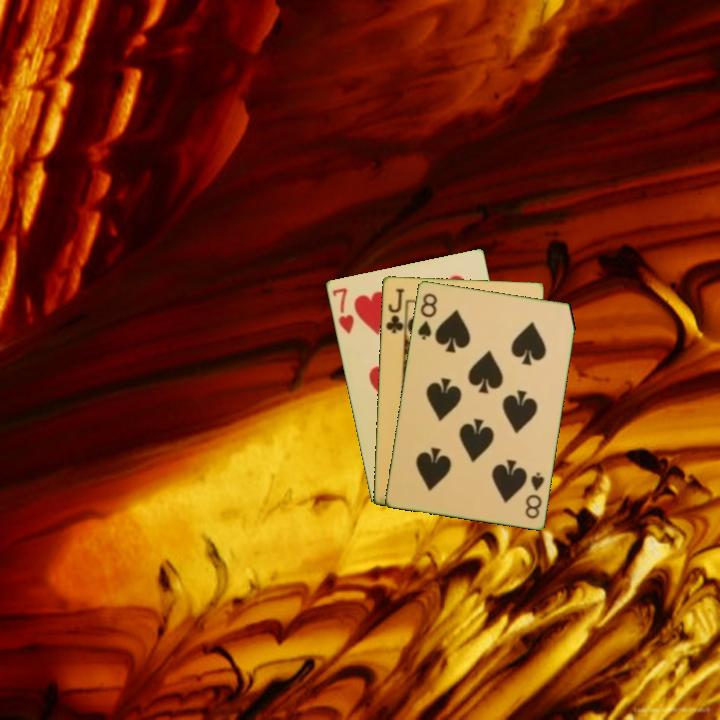7h: (328, 284, 357, 337)
8s: (414, 289, 440, 342), (521, 468, 547, 521)
Jc: (382, 284, 407, 336)
